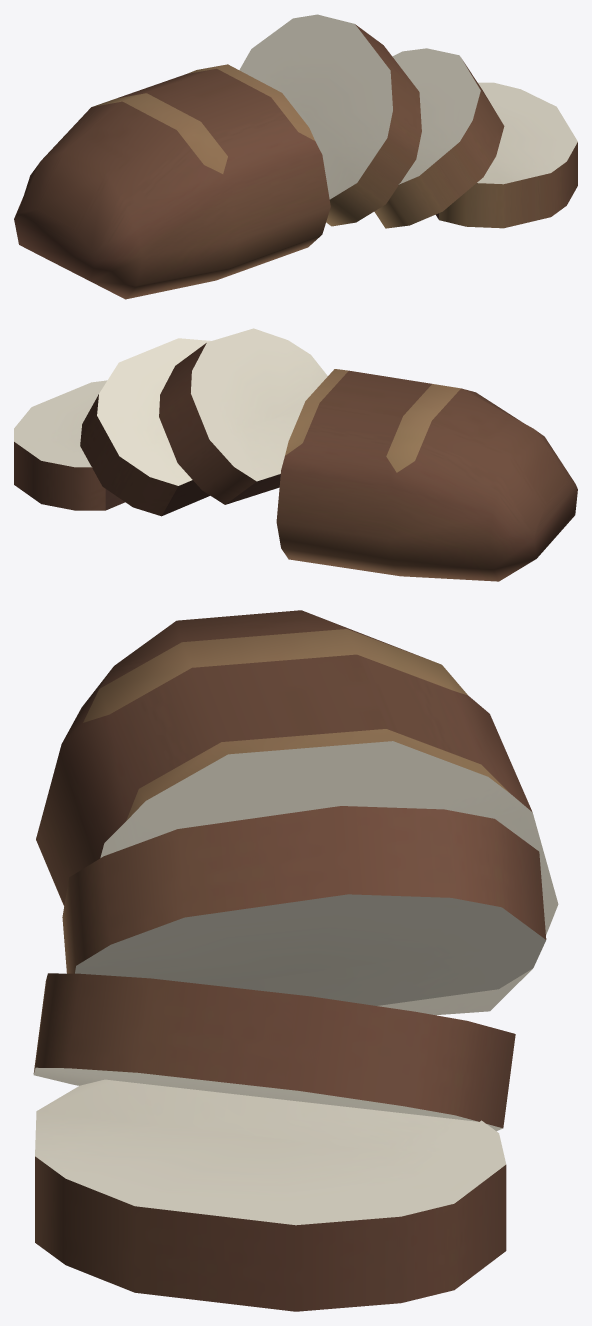
The model's file is bread_sliced.fbx.
The picture shows the model from 3 angles, top to bottom: view 1: azimuth 30°, elevation 25°; view 2: azimuth 150°, elevation 25°; view 3: azimuth 270°, elevation 25°; orthographic projection. The views are drawn at different scales.
Parts seen in each view (by area): view 1: bread_sliced; view 2: bread_sliced; view 3: bread_sliced.
Part boxes in pixels (x1,y1,x2,y2): bread_sliced: (14, 14, 577, 299); bread_sliced: (14, 328, 577, 581); bread_sliced: (33, 610, 558, 1311).
Bounding box in the file's own units: 68.04 × 20.33 × 29.9.
